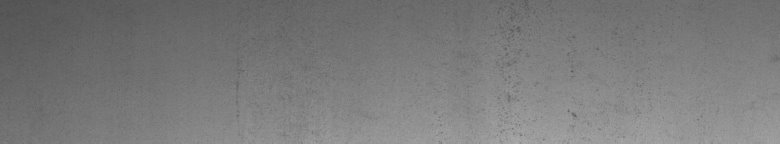ib: (497, 23, 577, 119)
